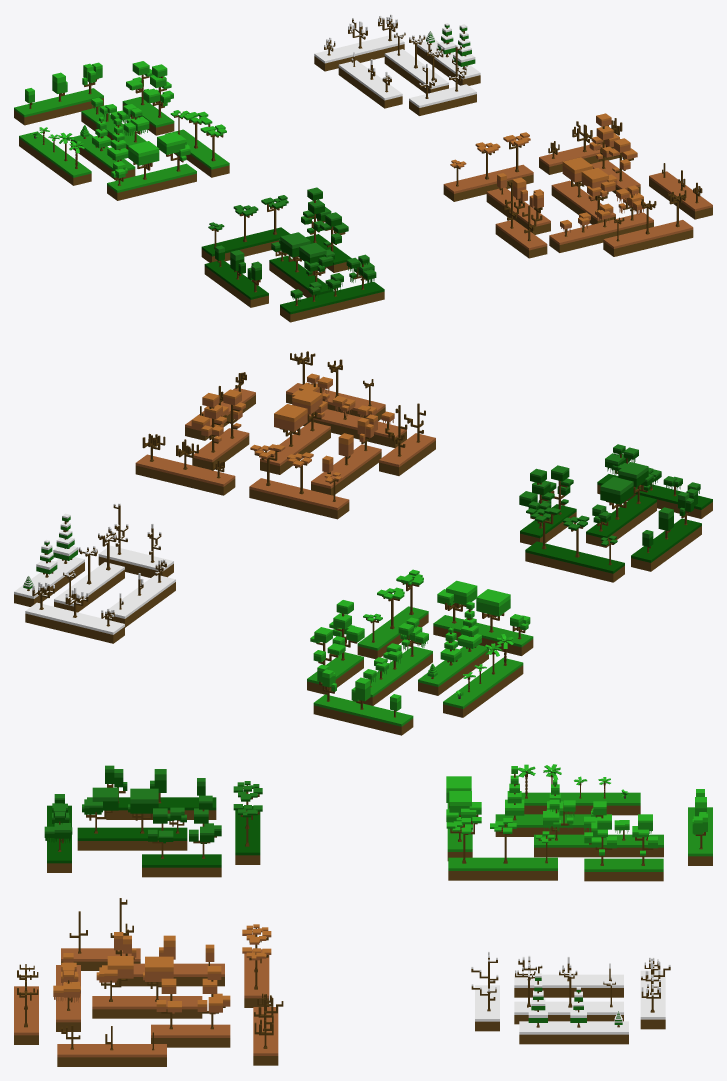
The picture shows the model from 3 angles, top to bottom: view 1: azimuth 30°, elevation 25°; view 2: azimuth 150°, elevation 25°; view 3: azimuth 270°, elevation 25°; orthographic projection. The views are drawn at different scales.
Visible parts, largest first — view 1: Cube.016_Cube.1696, Cube.021_Cube.1716, Cube.022_Cube.1728, Cube.003_Cube.1579, Cube.005_Cube.1586, Cube.001_Cube.1571, Cube.011_Cube.1613, Cube.018_Cube.1713, Cube.010_Cube.1609, Cube.012_Cube.1640, Cube.025_Cube.1730, Cube.013_Cube.1641 (+31 smaller); view 2: Cube.001_Cube.1571, Cube.030_Cube.1734, Cube.018_Cube.1713, Cube.011_Cube.1613, Cube.013_Cube.1641, Cube.005_Cube.1586, Cube.012_Cube.1640, Cube.007_Cube.1597, Cube.010_Cube.1609, Cube.014_Cube.1642, Cube.006_Cube.1596, Cube.017_Cube.1712 (+29 smaller); view 3: Cube.002_Cube.1575, Cube.024_Cube.1675, Cube.025_Cube.1730, Cube.007_Cube.1597, Cube.014_Cube.1642, Cube.010_Cube.1609, Cube.019_Cube.1714, Cube.005_Cube.1586, Cube.015_Cube.1643, Cube.004_Cube.1583, Cube.020_Cube.1715, Cube.008_Cube.1602 (+33 smaller).
Boxes of the visible parts, left/top/right/bottom form: Cube.016_Cube.1696: left=280, top=281, right=384, bottom=322; Cube.021_Cube.1716: left=549, top=212, right=653, bottom=252; Cube.022_Cube.1728: left=603, top=220, right=693, bottom=256; Cube.003_Cube.1579: left=107, top=163, right=196, bottom=200; Cube.005_Cube.1586: left=19, top=131, right=91, bottom=185; Cube.001_Cube.1571: left=14, top=88, right=103, bottom=125; Cube.011_Cube.1613: left=314, top=34, right=404, bottom=71; Cube.018_Cube.1713: left=443, top=164, right=533, bottom=201; Cube.010_Cube.1609: left=338, top=60, right=402, bottom=108; Cube.012_Cube.1640: left=204, top=260, right=268, bottom=307; Cube.025_Cube.1730: left=649, top=171, right=712, bottom=219; Cube.013_Cube.1641: left=201, top=227, right=290, bottom=262; Cube.001_Cube.1571: left=313, top=694, right=413, bottom=735; Cube.030_Cube.1734: left=135, top=454, right=235, bottom=495; Cube.018_Cube.1713: left=249, top=478, right=349, bottom=519; Cube.011_Cube.1613: left=25, top=602, right=124, bottom=643; Cube.013_Cube.1641: left=525, top=541, right=624, bottom=582; Cube.005_Cube.1586: left=443, top=657, right=523, bottom=717; Cube.012_Cube.1640: left=631, top=518, right=701, bottom=571; Cube.007_Cube.1597: left=353, top=646, right=432, bottom=705; Cube.010_Cube.1609: left=105, top=575, right=175, bottom=627; Cube.014_Cube.1642: left=586, top=494, right=656, bottom=547; Cube.006_Cube.1596: left=418, top=645, right=488, bottom=695; Cube.017_Cube.1712: left=311, top=444, right=381, bottom=495; Cube.002_Cube.1575: left=448, top=857, right=557, bottom=880; Cube.024_Cube.1675: left=519, top=1021, right=628, bottom=1044; Cube.025_Cube.1730: left=57, top=1044, right=166, bottom=1066; Cube.007_Cube.1597: left=534, top=834, right=663, bottom=857; Cube.014_Cube.1642: left=77, top=827, right=187, bottom=850; Cube.010_Cube.1609: left=514, top=974, right=623, bottom=997; Cube.019_Cube.1714: left=92, top=996, right=202, bottom=1018; Cube.005_Cube.1586: left=521, top=792, right=640, bottom=815; Cube.015_Cube.1643: left=142, top=854, right=221, bottom=877; Cube.004_Cube.1583: left=584, top=858, right=663, bottom=881; Cube.020_Cube.1715: left=151, top=1024, right=230, bottom=1047; Cube.008_Cube.1602: left=514, top=1001, right=623, bottom=1024.
Size of the model in its own units: 302 by 39.07 by 340.
